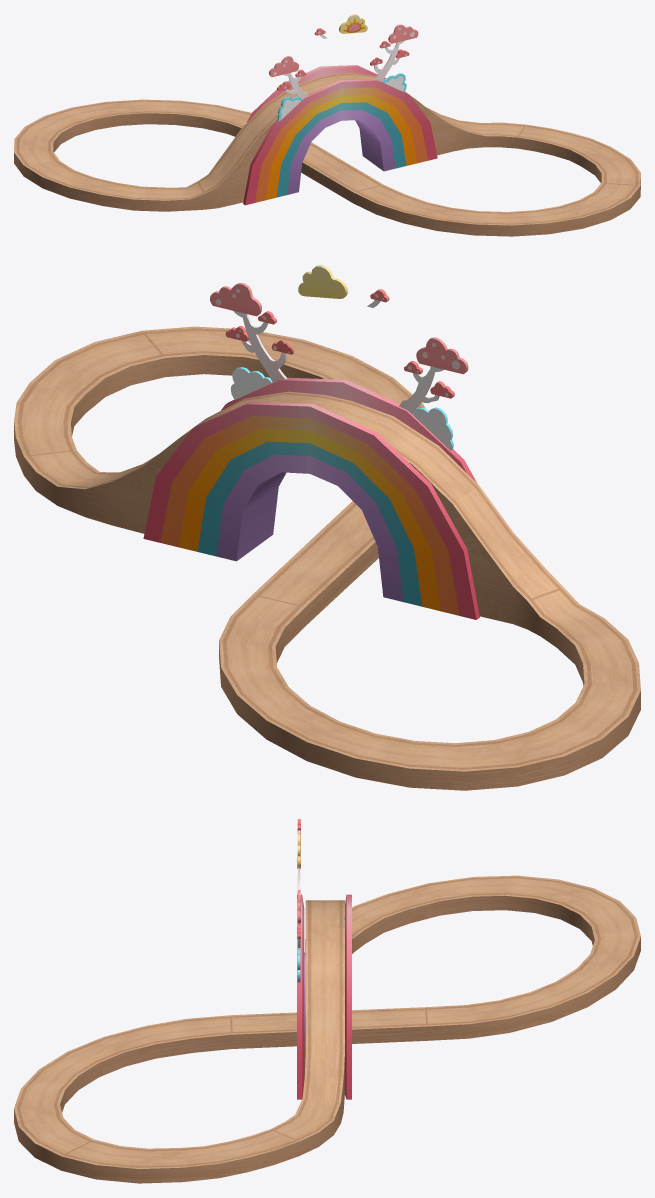
The model's file is Doll_OB_ToyRail_001.FBX.
3 views of the same model, one above another, from view 1: azimuth 30°, elevation 25°; view 2: azimuth 150°, elevation 25°; view 3: azimuth 270°, elevation 25° (orthographic). The views are drawn at different scales.
Parts seen in each view (by area): view 1: Doll_OB_ToyRail_001, Doll_OB_ToyRail_001_1; view 2: Doll_OB_ToyRail_001, Doll_OB_ToyRail_001_1; view 3: Doll_OB_ToyRail_001, Doll_OB_ToyRail_001_1.
Part boxes in pixels (x1,y1,x2,y2): Doll_OB_ToyRail_001: [14, 72, 640, 236]; Doll_OB_ToyRail_001_1: [243, 14, 437, 205]; Doll_OB_ToyRail_001: [14, 326, 640, 790]; Doll_OB_ToyRail_001_1: [143, 265, 479, 619]; Doll_OB_ToyRail_001: [14, 875, 640, 1183]; Doll_OB_ToyRail_001_1: [297, 819, 351, 1099].
Bounding box in the file's own units: 227 × 76.55 × 205.
